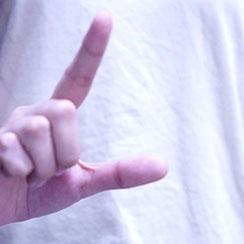L: (0, 6, 214, 211)
